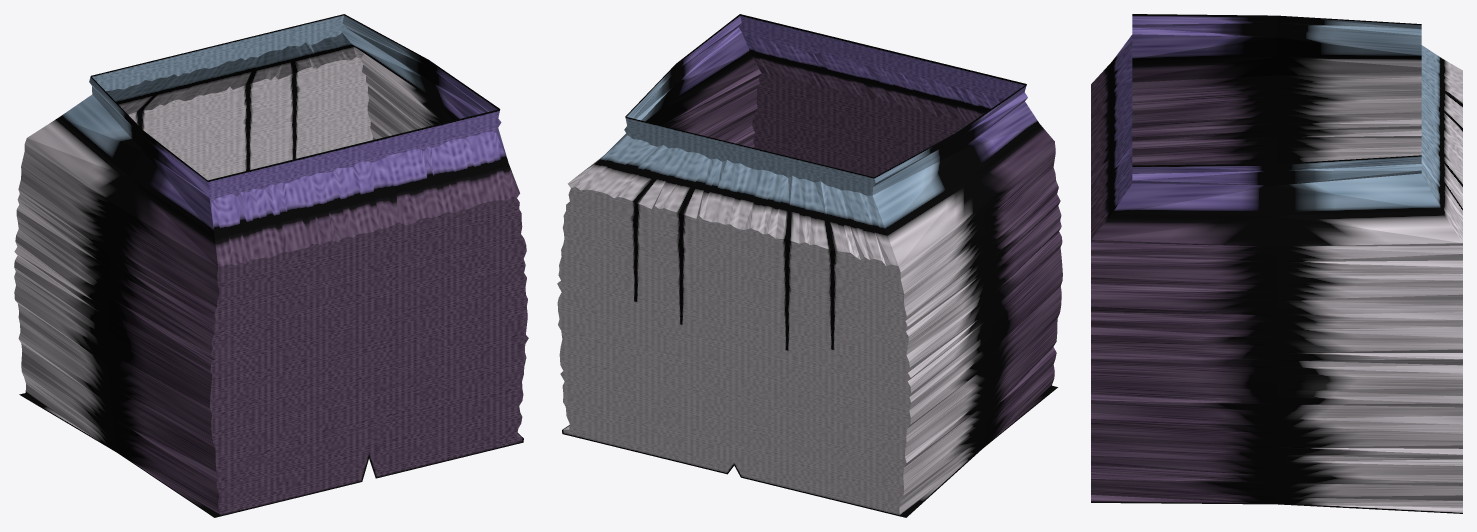
Rendered from valid_garment_lower_boxmesh.obj.
The picture shows the model from 3 angles, left to right: view 1: azimuth 30°, elevation 25°; view 2: azimuth 150°, elevation 25°; view 3: azimuth 270°, elevation 25°; orthographic projection. The views are drawn at different scales.
Bounding box in the file's own units: 53.46 × 45.34 × 45.
Materials: 1 (1 with a texture image).
